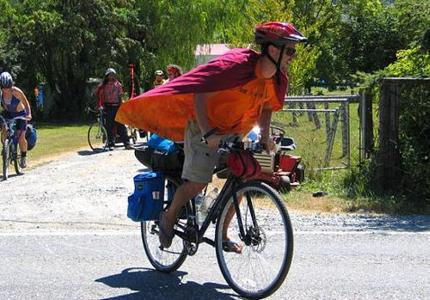person: (158, 21, 306, 254)
